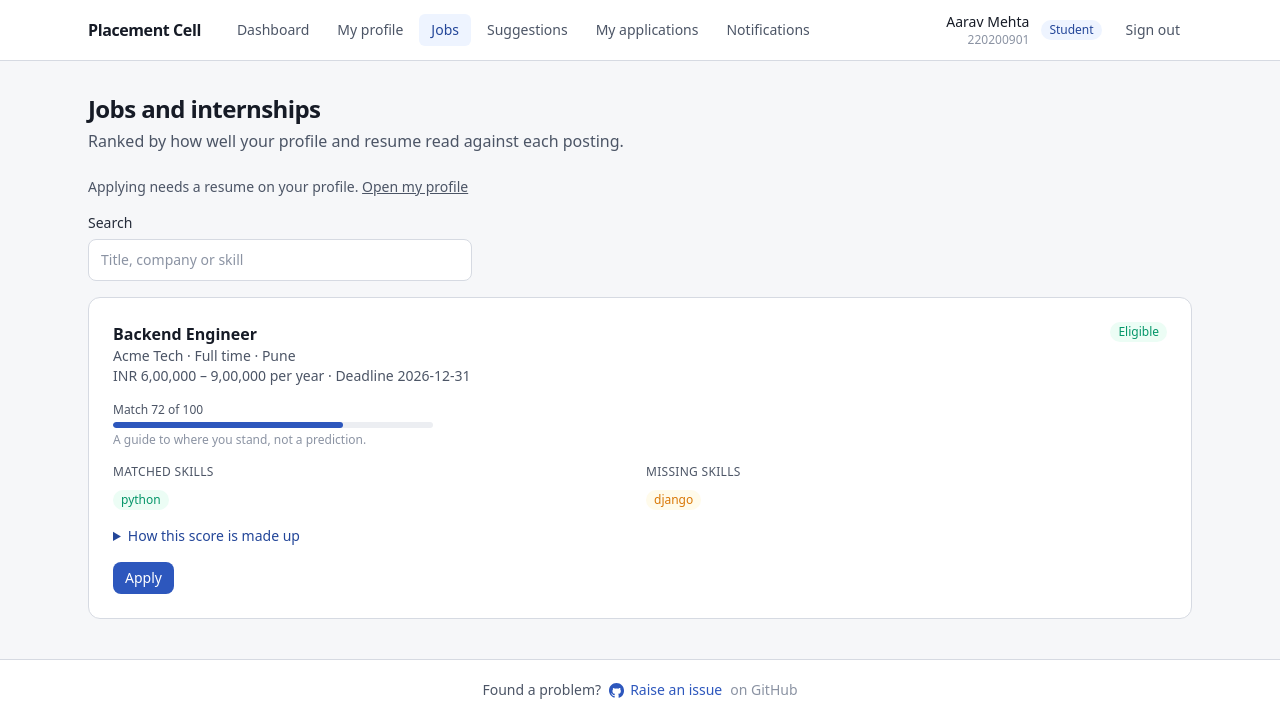
Test: student jobs board › explains the not_open refusal in plain words
The image size is (1280, 720).
Click the button "Apply": (143, 578) [113,562,174,594]
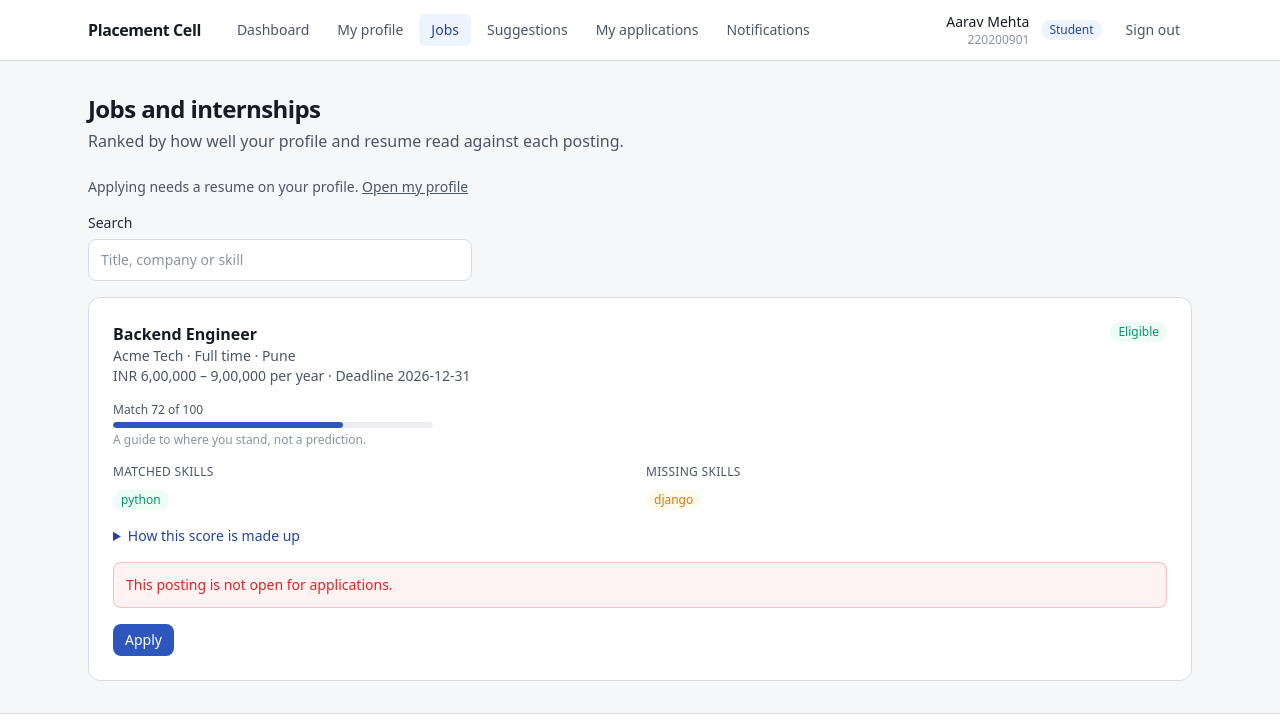
Check: the message shows "not open for applications", box [126,575,393,594]
